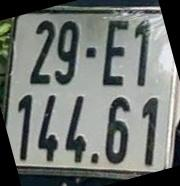-: (87, 47, 95, 57)
.: (92, 154, 98, 163)
1: (143, 97, 159, 165), (19, 94, 33, 162), (136, 20, 150, 86)
2: (32, 20, 53, 85)
4: (66, 97, 86, 163), (38, 96, 58, 161)
6: (107, 97, 129, 163)
9: (58, 21, 78, 85)
E: (104, 20, 126, 85)
